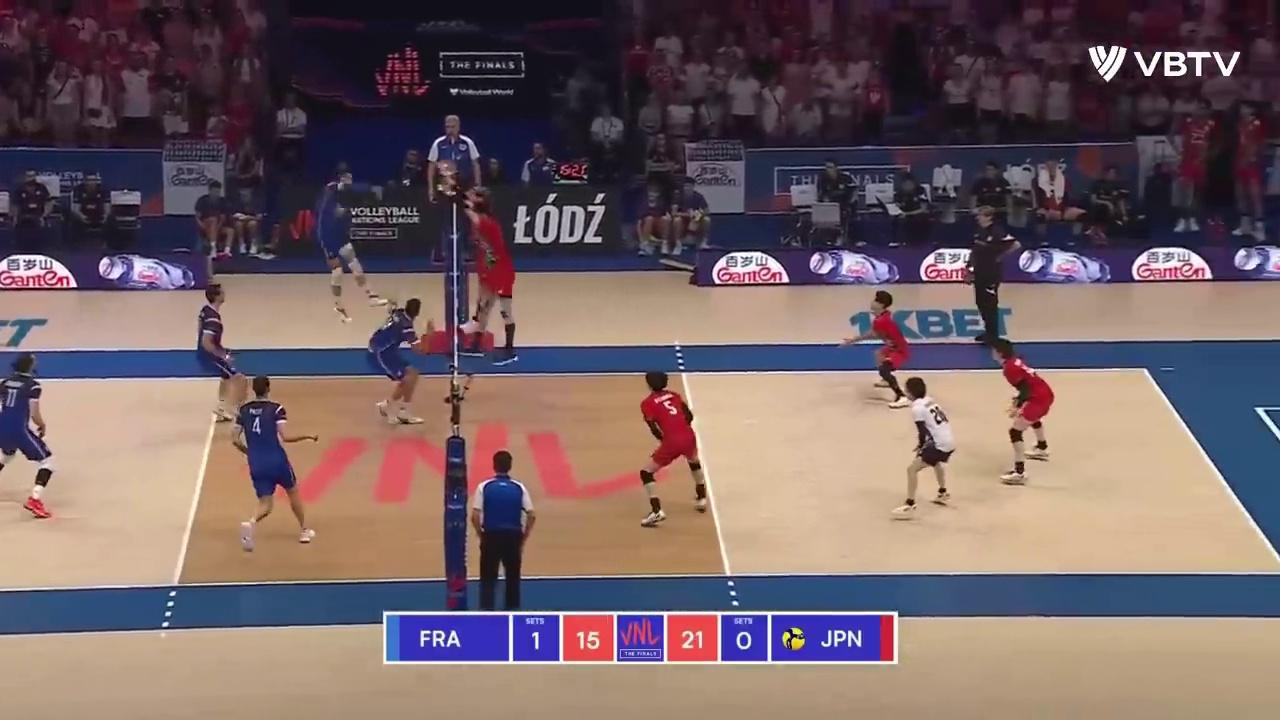ball: (436, 174, 458, 192)
